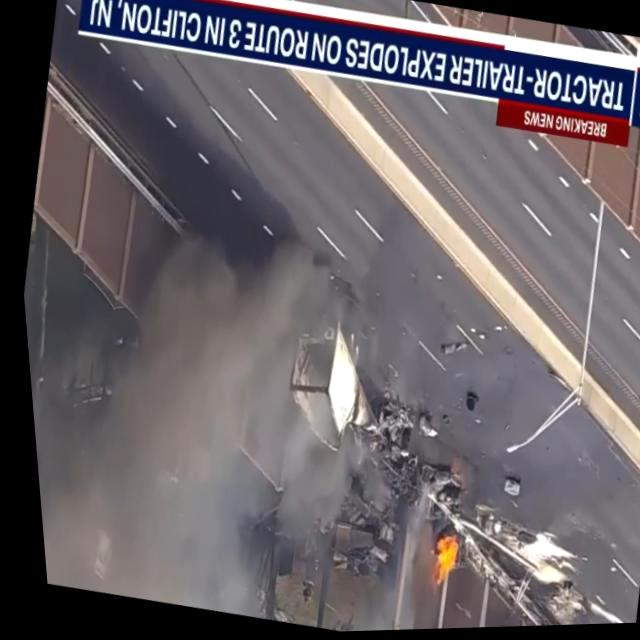fire: (414, 528, 462, 598)
